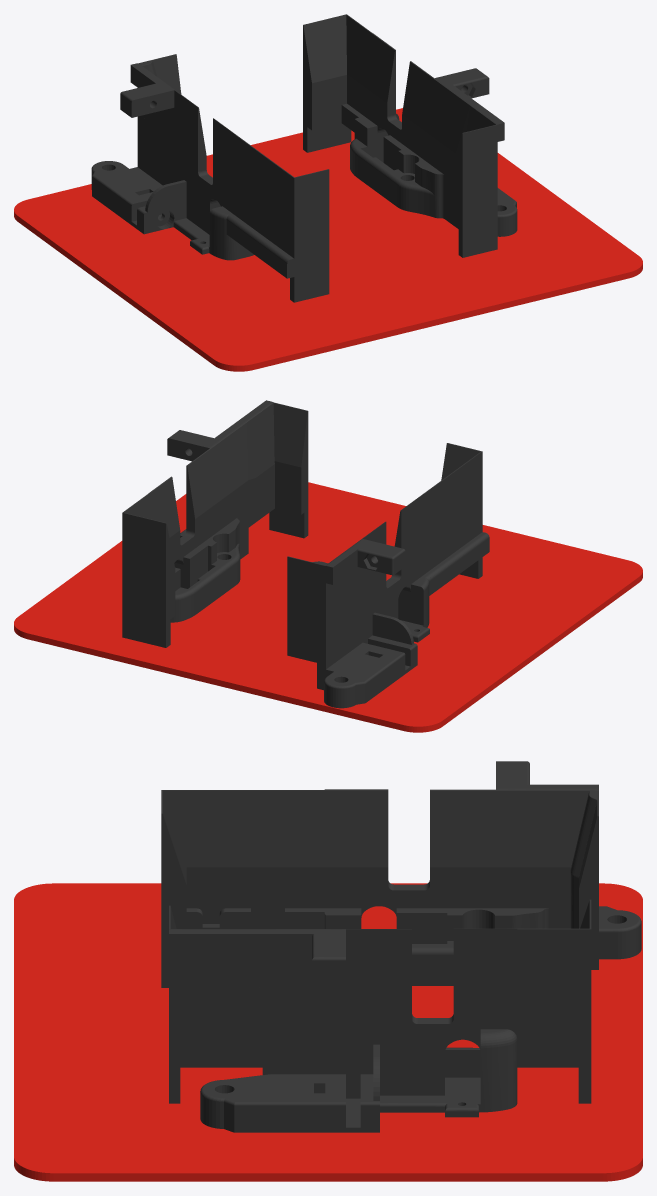
Rendered from UNP_SPL_Redboard.fbx.
The picture shows the model from 3 angles, top to bottom: view 1: azimuth 30°, elevation 25°; view 2: azimuth 150°, elevation 25°; view 3: azimuth 270°, elevation 25°; orthographic projection. The views are drawn at different scales.
Parts seen in each view (by area): view 1: Redboard; view 2: Redboard; view 3: Redboard.
Boxes of the visible parts, box(x1,y1,x2,y2) form: Redboard: box(14, 14, 642, 371); Redboard: box(14, 400, 642, 732); Redboard: box(14, 761, 642, 1181).
Size of the model in its own units: 12.1 by 3.59 by 11.1.
